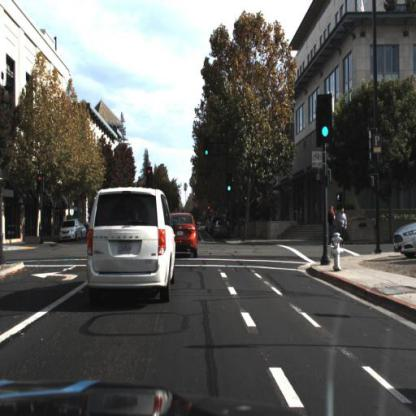car: (82, 181, 178, 315), (163, 205, 200, 271), (57, 220, 82, 247), (213, 222, 230, 243), (80, 221, 88, 242)
pedestrian: (338, 204, 348, 244), (327, 205, 336, 245)
trafficLight: (317, 94, 333, 143), (226, 174, 234, 195)
trafficLight-Green: (204, 146, 212, 167)
trafficLight-RedLeft: (36, 171, 46, 194), (37, 172, 45, 193), (146, 166, 153, 188)
